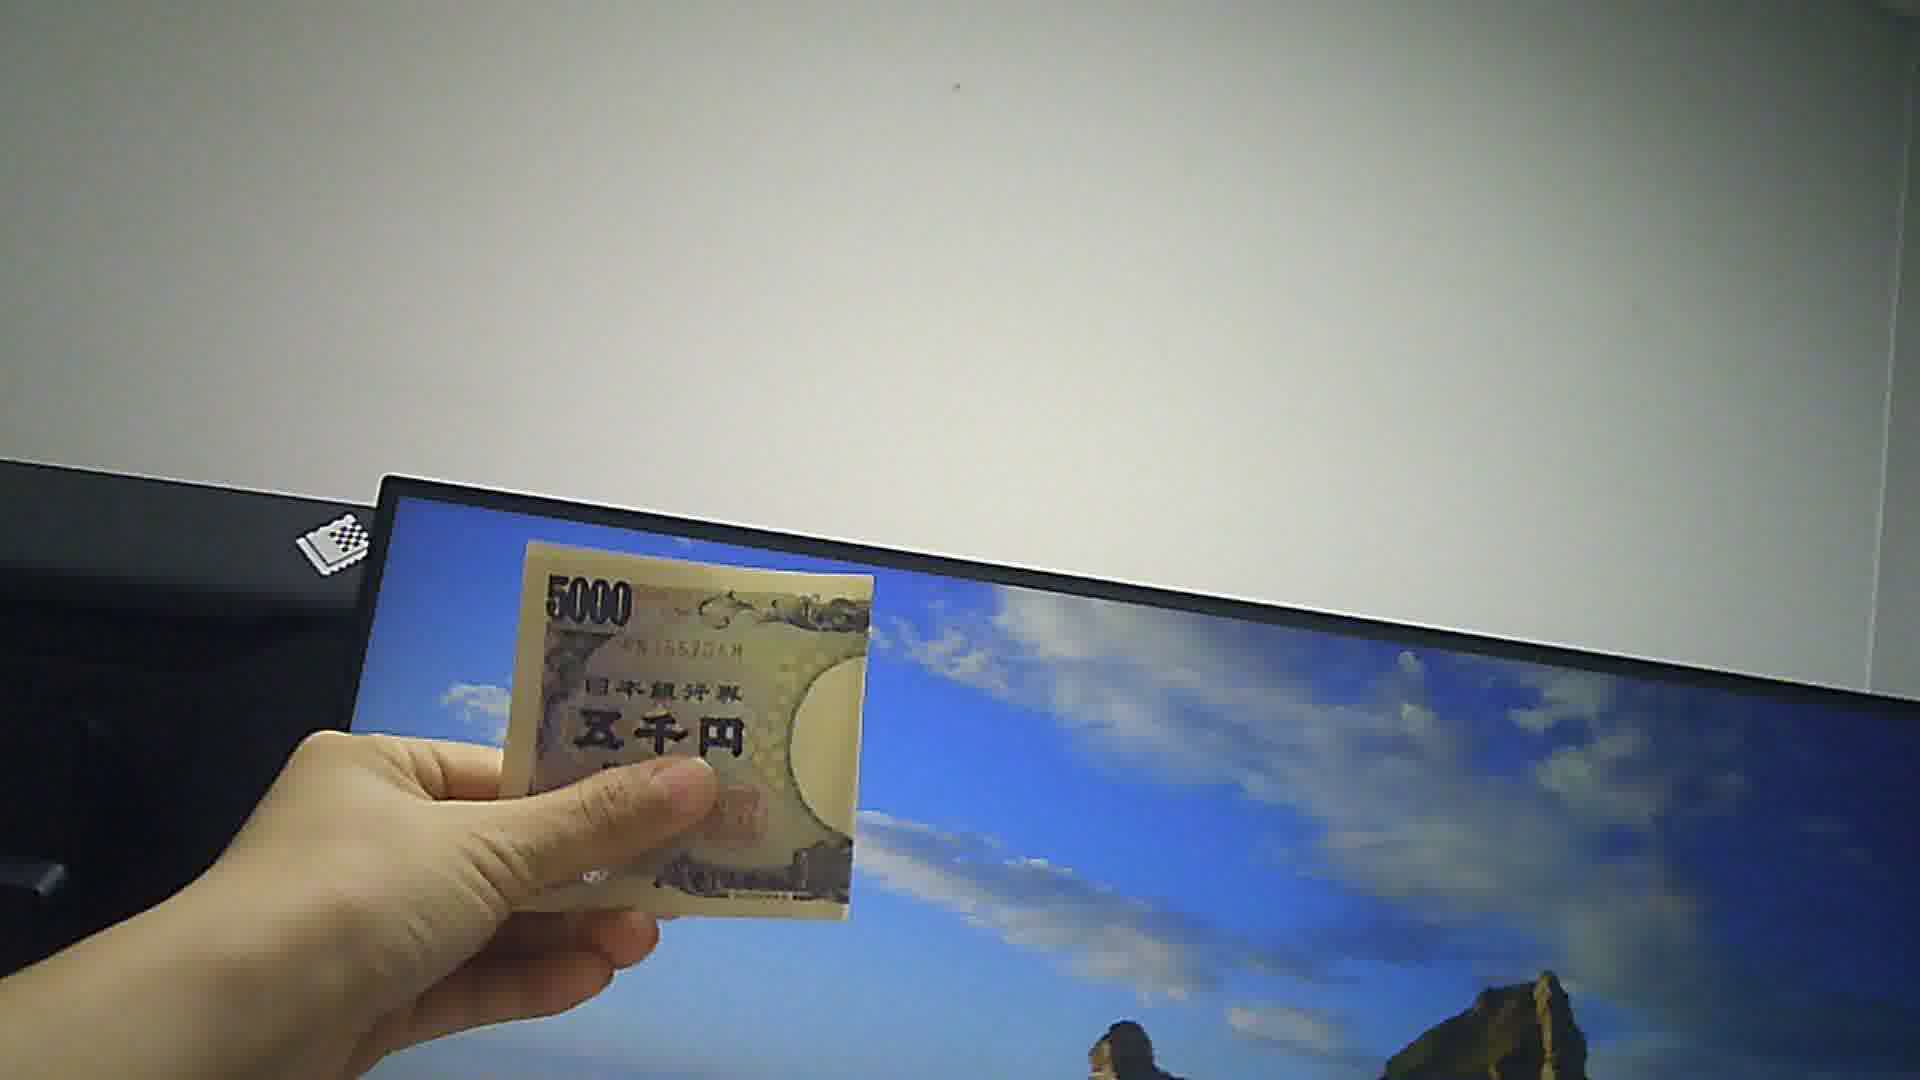5,000 Yen: (479, 527, 910, 952)
